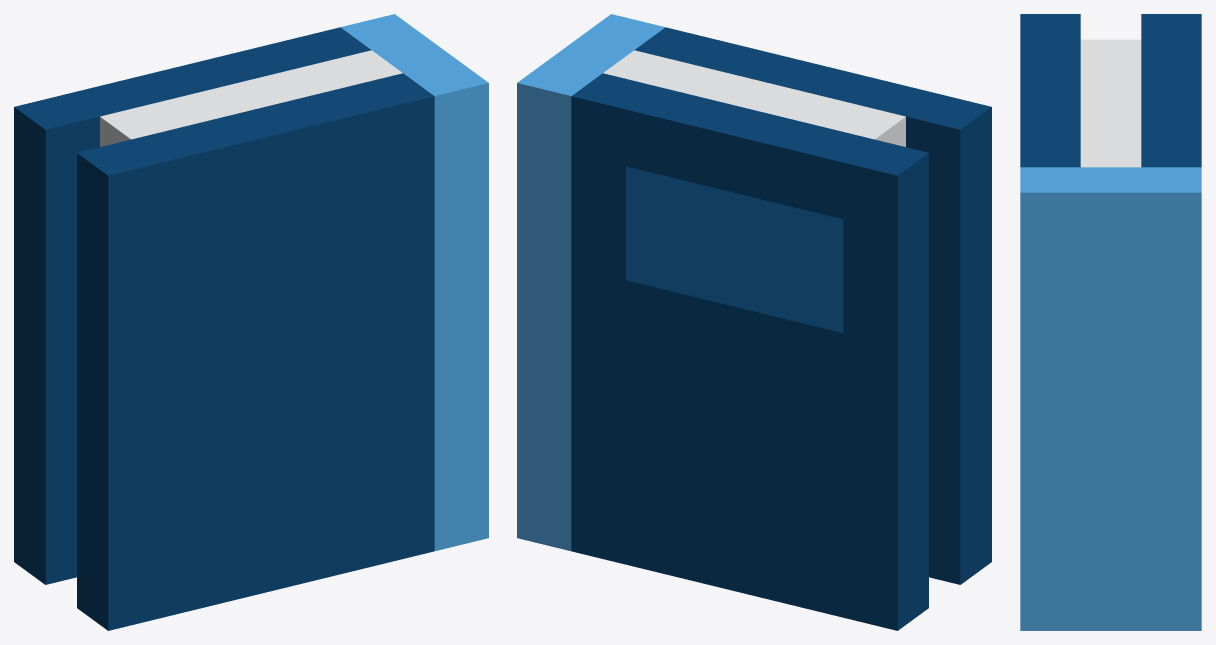
File: book-blue.obj
3 views of the same model, side by side, from view 1: azimuth 30°, elevation 25°; view 2: azimuth 150°, elevation 25°; view 3: azimuth 270°, elevation 25° (orthographic). The views are drawn at different scales.
Size of the model in its own units: 0.7 by 0.8 by 0.3.
Materials: 1 (1 with a texture image).
